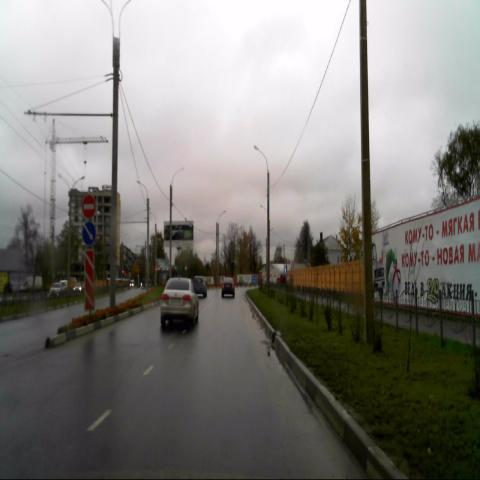4_2_1: (82, 220, 96, 245)
